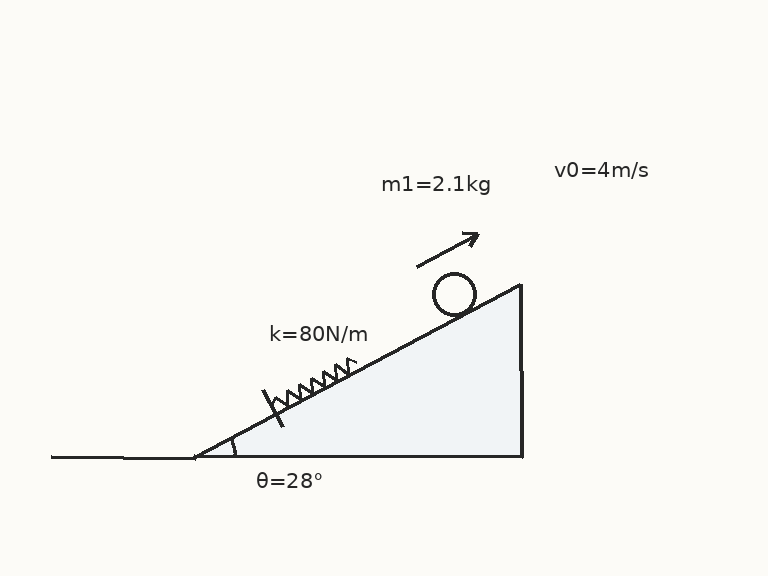ball: (430, 270, 478, 318)
ramp: (193, 282, 522, 459)
spring: (270, 356, 358, 408)
